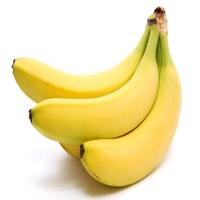banane: (12, 7, 182, 190)
